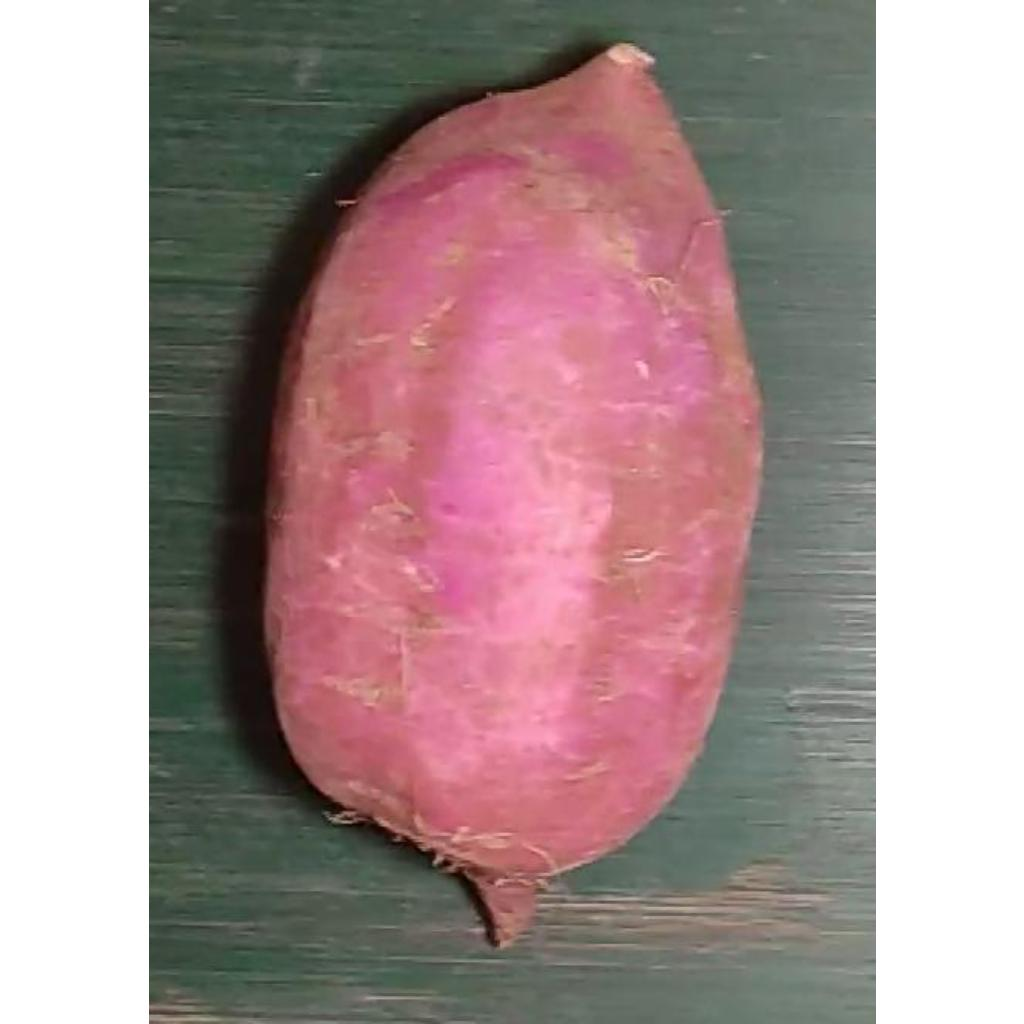Sweet Potato: (262, 43, 763, 947)
